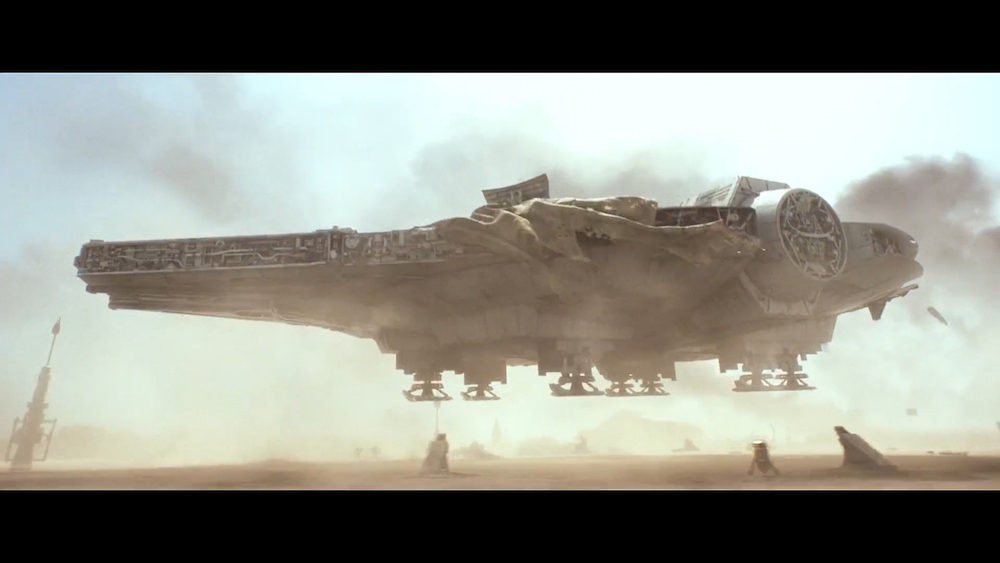Millennium Falcon: (74, 174, 924, 373)
